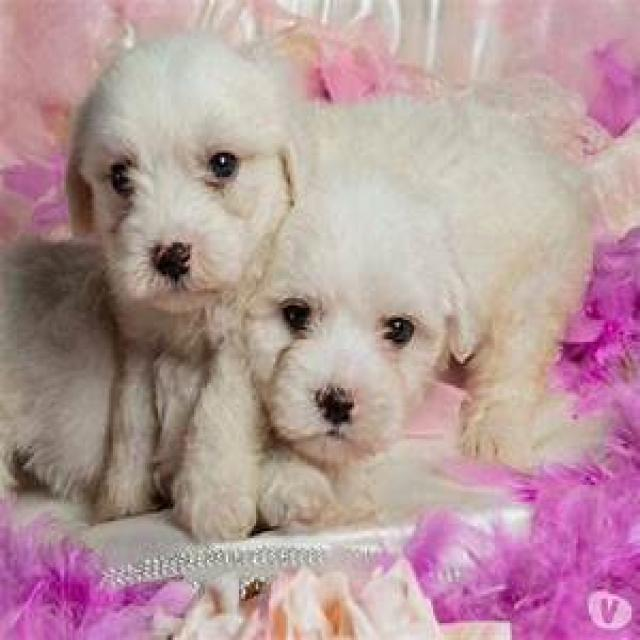dog: (66, 41, 609, 475), (0, 192, 475, 534)
